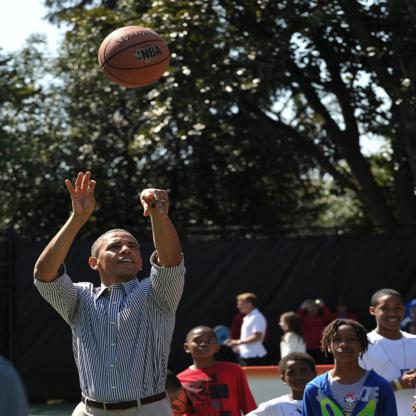face: (101, 236, 140, 275), (332, 331, 360, 364), (376, 301, 404, 332), (286, 364, 313, 392), (191, 335, 216, 359), (237, 301, 249, 314), (309, 301, 321, 313), (279, 321, 288, 332), (338, 303, 347, 312)
